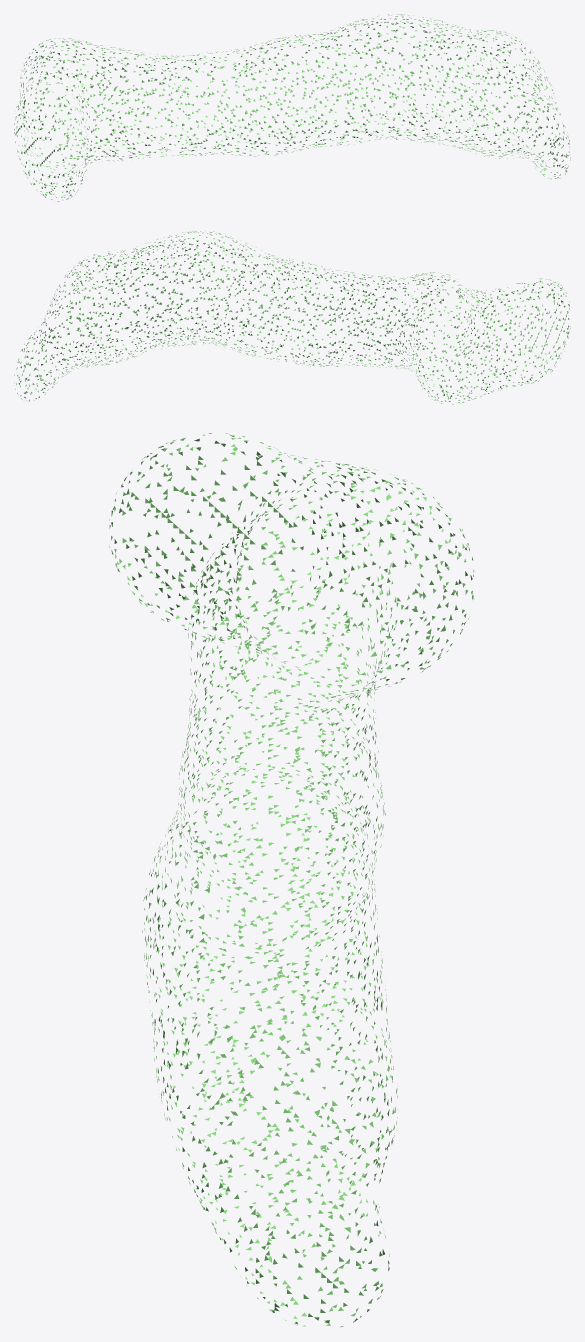
Rendered from morph_016.glb.
The picture shows the model from 3 angles, top to bottom: view 1: azimuth 30°, elevation 25°; view 2: azimuth 150°, elevation 25°; view 3: azimuth 270°, elevation 25°; orthographic projection. The views are drawn at different scales.
Size of the model in its own units: 146 by 60.83 by 46.52.
